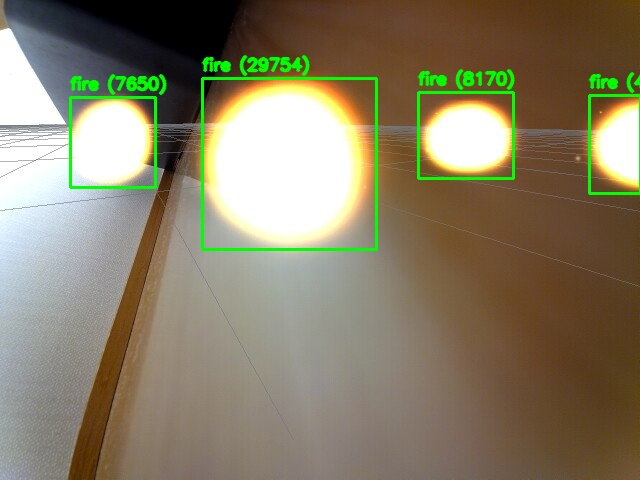fire: (202, 78, 376, 249), (418, 92, 513, 178), (70, 97, 155, 187), (589, 95, 640, 193)
